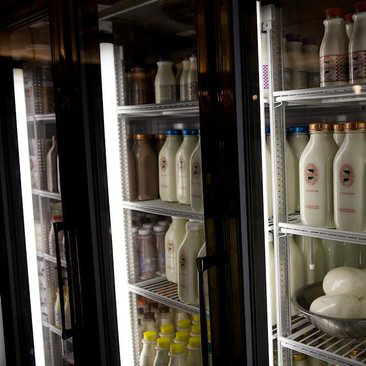milk: (298, 118, 364, 232), (164, 214, 210, 308), (157, 128, 202, 212)
